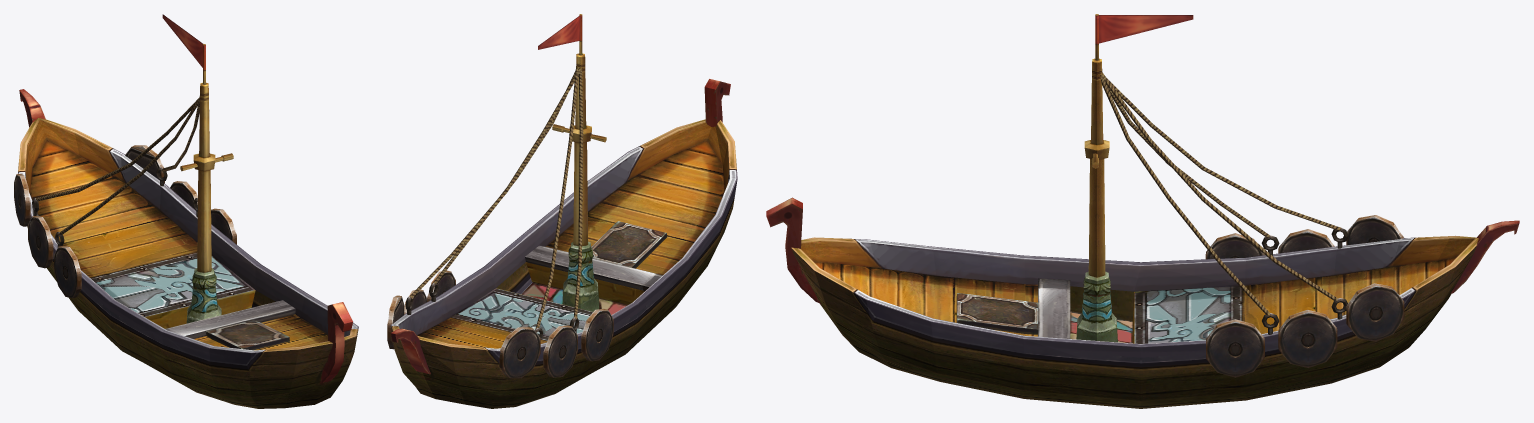
The model's file is haichuan.FBX.
3 views of the same model, side by side, from view 1: azimuth 30°, elevation 25°; view 2: azimuth 150°, elevation 25°; view 3: azimuth 270°, elevation 25° (orthographic). The views are drawn at different scales.
Parts seen in each view (by area): view 1: haichuan; view 2: haichuan; view 3: haichuan.
Boxes of the visible parts, box(x1,y1,x2,y2) form: haichuan: box(14, 14, 358, 408); haichuan: box(387, 14, 737, 408); haichuan: box(766, 14, 1519, 408).
Bounding box in the file's own units: 707 × 1372 × 2511.
